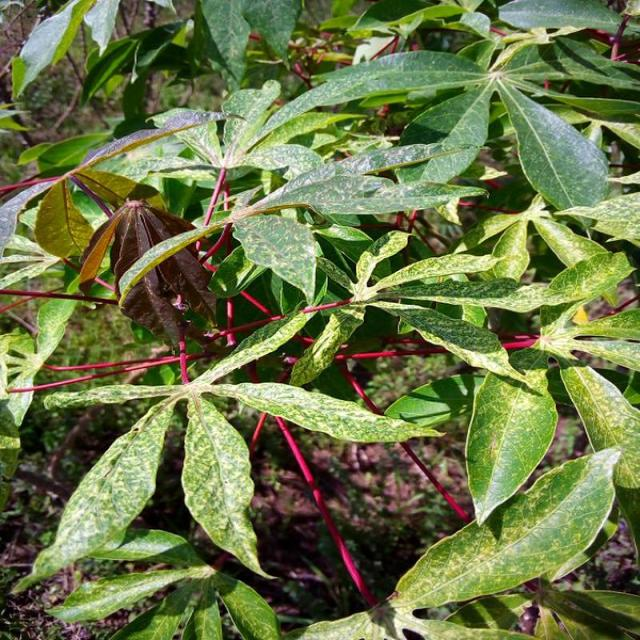cassava leaf: (1, 7, 638, 638), (390, 444, 622, 614), (464, 360, 558, 527)
